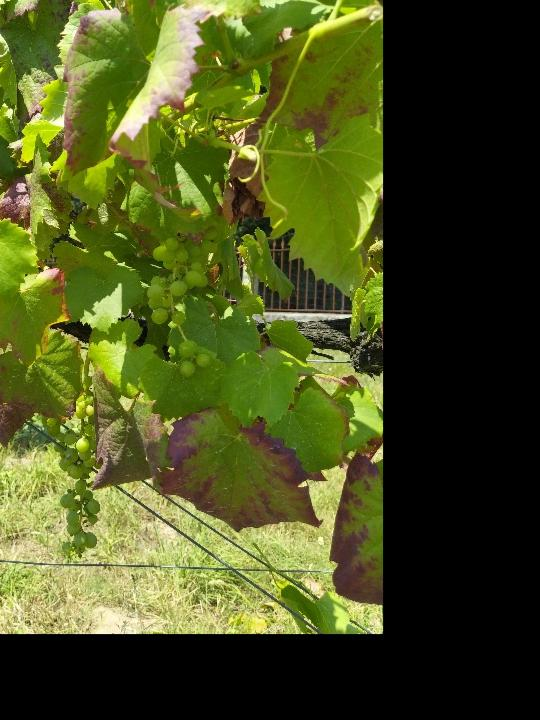grape: (35, 393, 111, 562), (141, 237, 214, 381)
